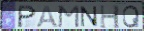A: (35, 5, 60, 29)
H: (100, 4, 122, 30)
M: (57, 4, 81, 28)
N: (80, 5, 100, 28)
P: (16, 5, 38, 29)
Q: (122, 5, 141, 29)
